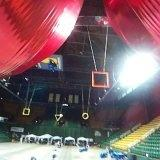Orange_Square_GShape: (91, 71, 110, 87)
Yellow_Circle_GShape: (82, 112, 89, 120)
Yellow_Square_GShape: (23, 108, 29, 116)
Yellow_Triangle_Gshape: (55, 114, 63, 122)
